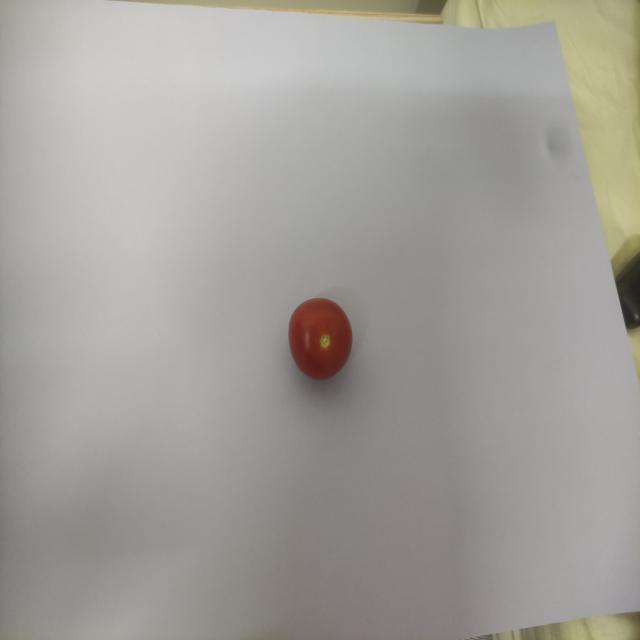kirmizi: (267, 291, 374, 402)
